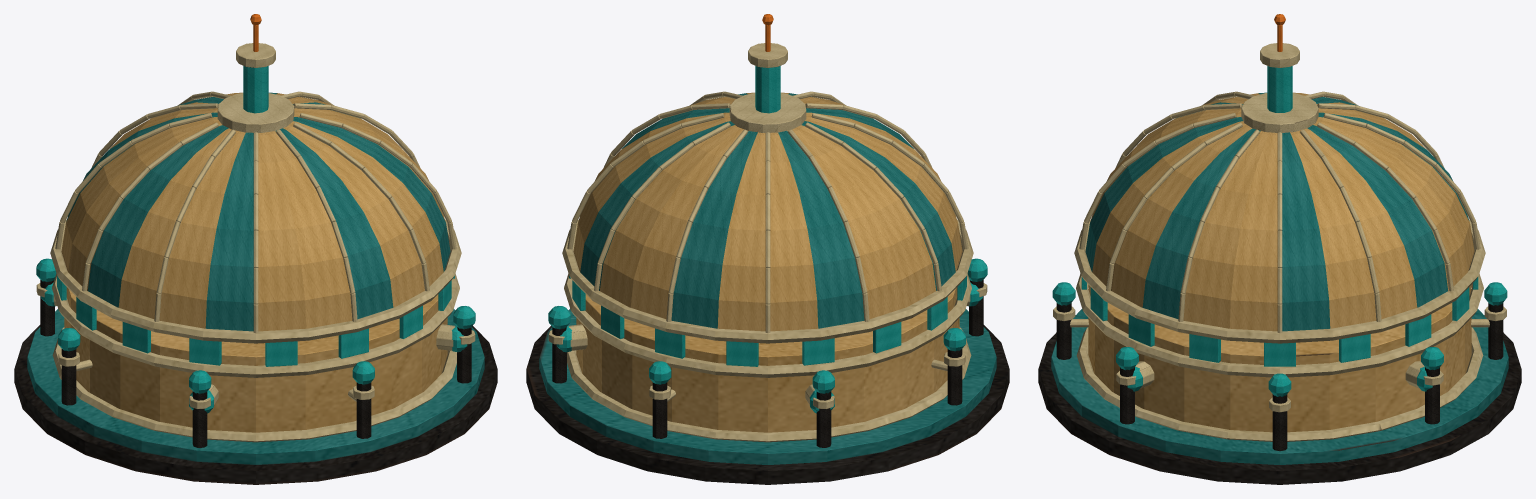
File: reactor-dome.glb
3 renders of one model, left to right at view 1: azimuth 30°, elevation 25°; view 2: azimuth 150°, elevation 25°; view 3: azimuth 270°, elevation 25°, orthographic.
Visible parts, largest first — view 1: ReactorDomeE6; view 2: ReactorDomeE6; view 3: ReactorDomeE6.
Part boxes in pixels (left/top/right/bottom): ReactorDomeE6: left=14, top=14, right=497, bottom=484; ReactorDomeE6: left=526, top=14, right=1009, bottom=484; ReactorDomeE6: left=1038, top=14, right=1521, bottom=484.
Size of the model in its own units: 6 by 5.05 by 6.
1 material, 1 textured.
